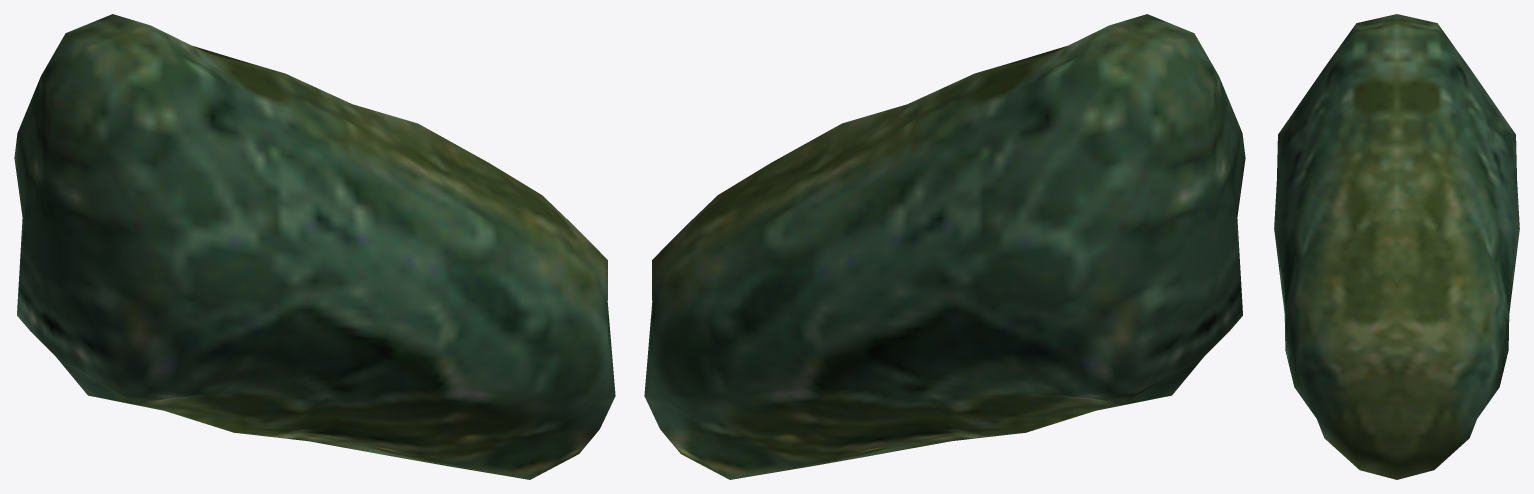
The model's file is aerolite07.FBX.
3 renders of one model, left to right at view 1: azimuth 30°, elevation 25°; view 2: azimuth 150°, elevation 25°; view 3: azimuth 270°, elevation 25°, orthographic. The views are drawn at different scales.
Visible parts, largest first — view 1: aerolite07; view 2: aerolite07; view 3: aerolite07.
Part boxes in pixels (<box>): aerolite07: <box>14,14,615,479</box>; aerolite07: <box>644,14,1245,479</box>; aerolite07: <box>1274,14,1519,479</box>.
Bounding box in the file's own units: 1221 × 1168 × 772.
